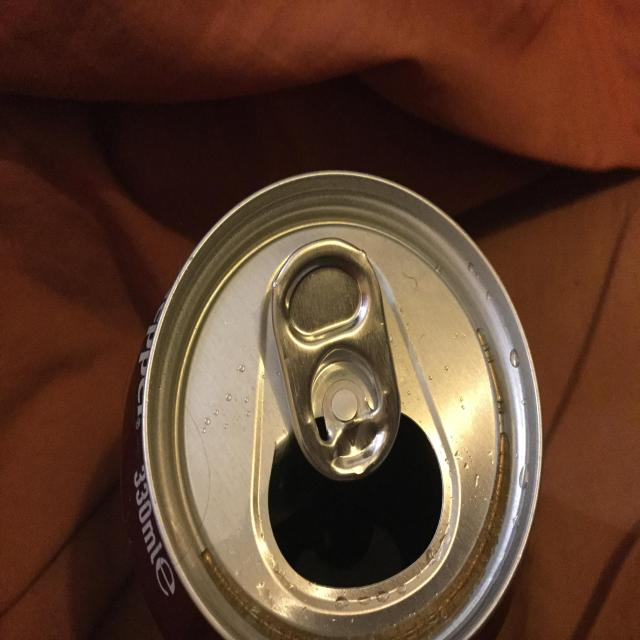can: (138, 163, 546, 640)
pop tab: (269, 242, 402, 480)
